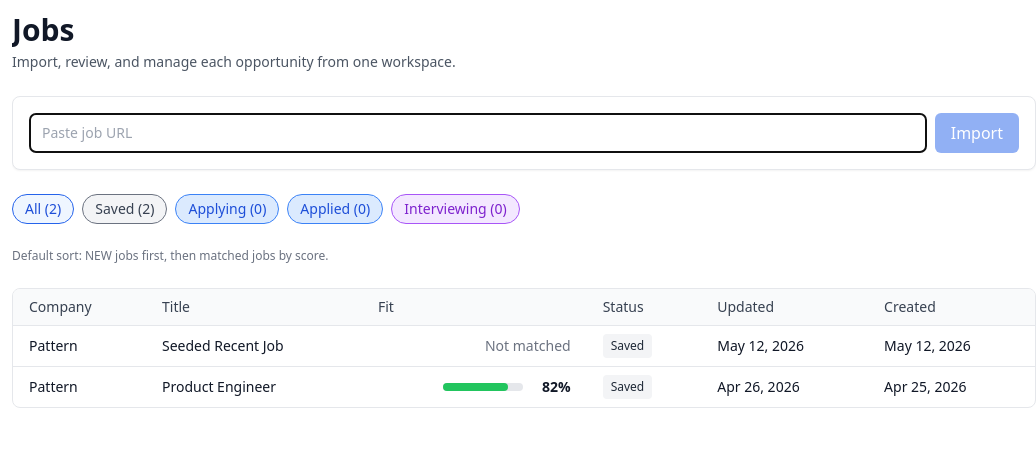
Test: JobsPageClient › marks only the imported job as NEW and moves it to the top by default
expect the text "Seeded Recent Job" is shown: met, box [162, 336, 284, 356]
Step 1. Type "https://example.com/imported-job" into the field with placeholder "Paste job URL" → (478, 133), box [29, 113, 927, 153]
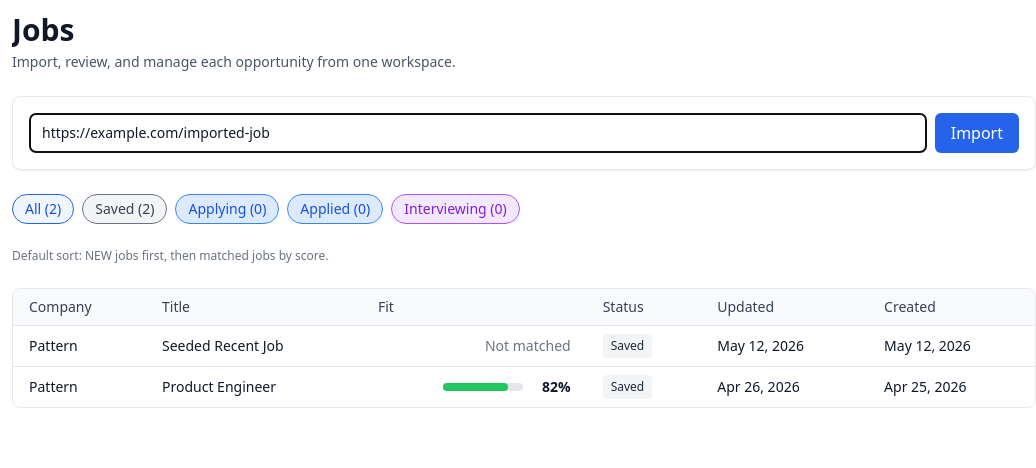
Step 2. Click the button "Import" → (977, 133), box [935, 113, 1019, 153]
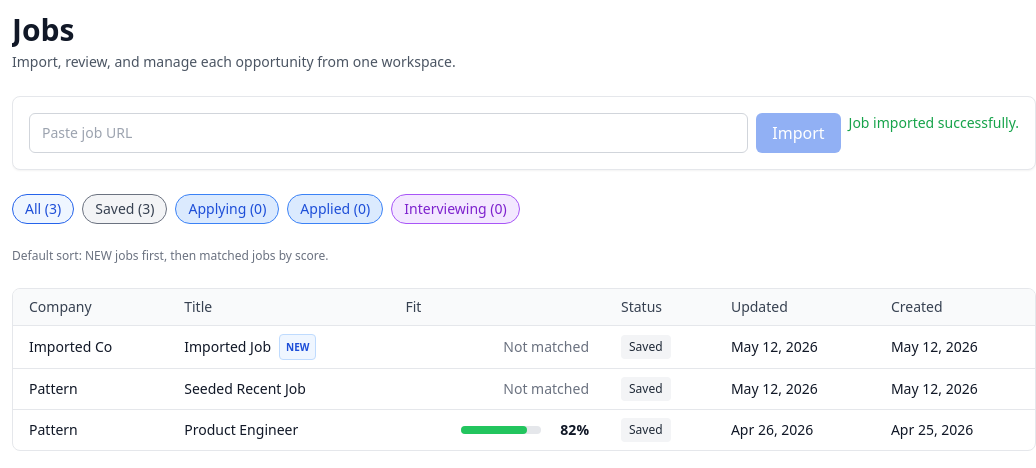
expect the text "Job imported successfully." is shown: met, box [849, 113, 1019, 132]
expect the text "Imported Job" is shown: met, box [184, 337, 271, 357]
expect the text "NEW" is shown once: met, box [279, 334, 316, 360]
